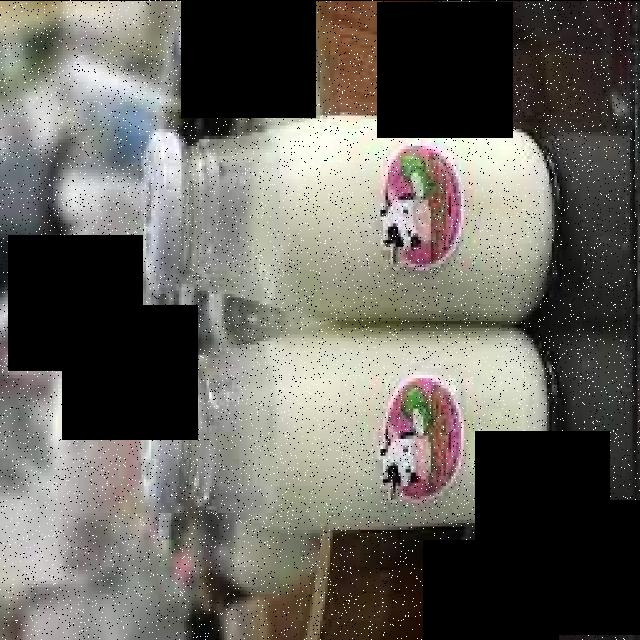glass-bottle: (127, 92, 576, 571)
